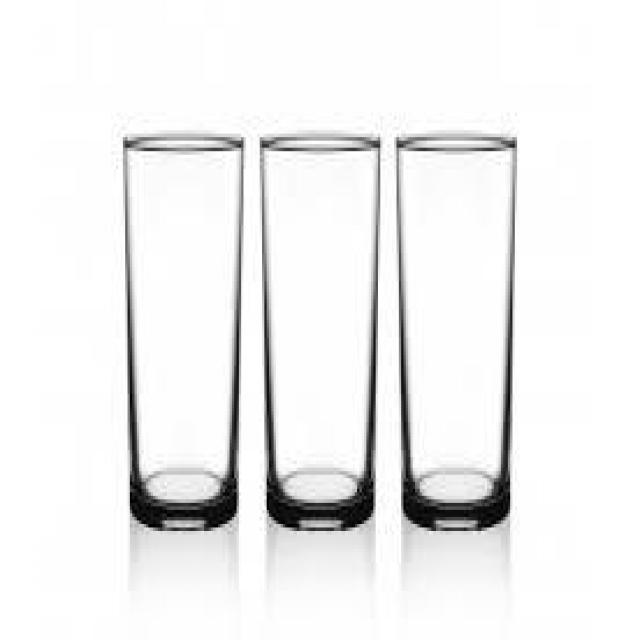non-organic waste: (120, 134, 244, 531)
